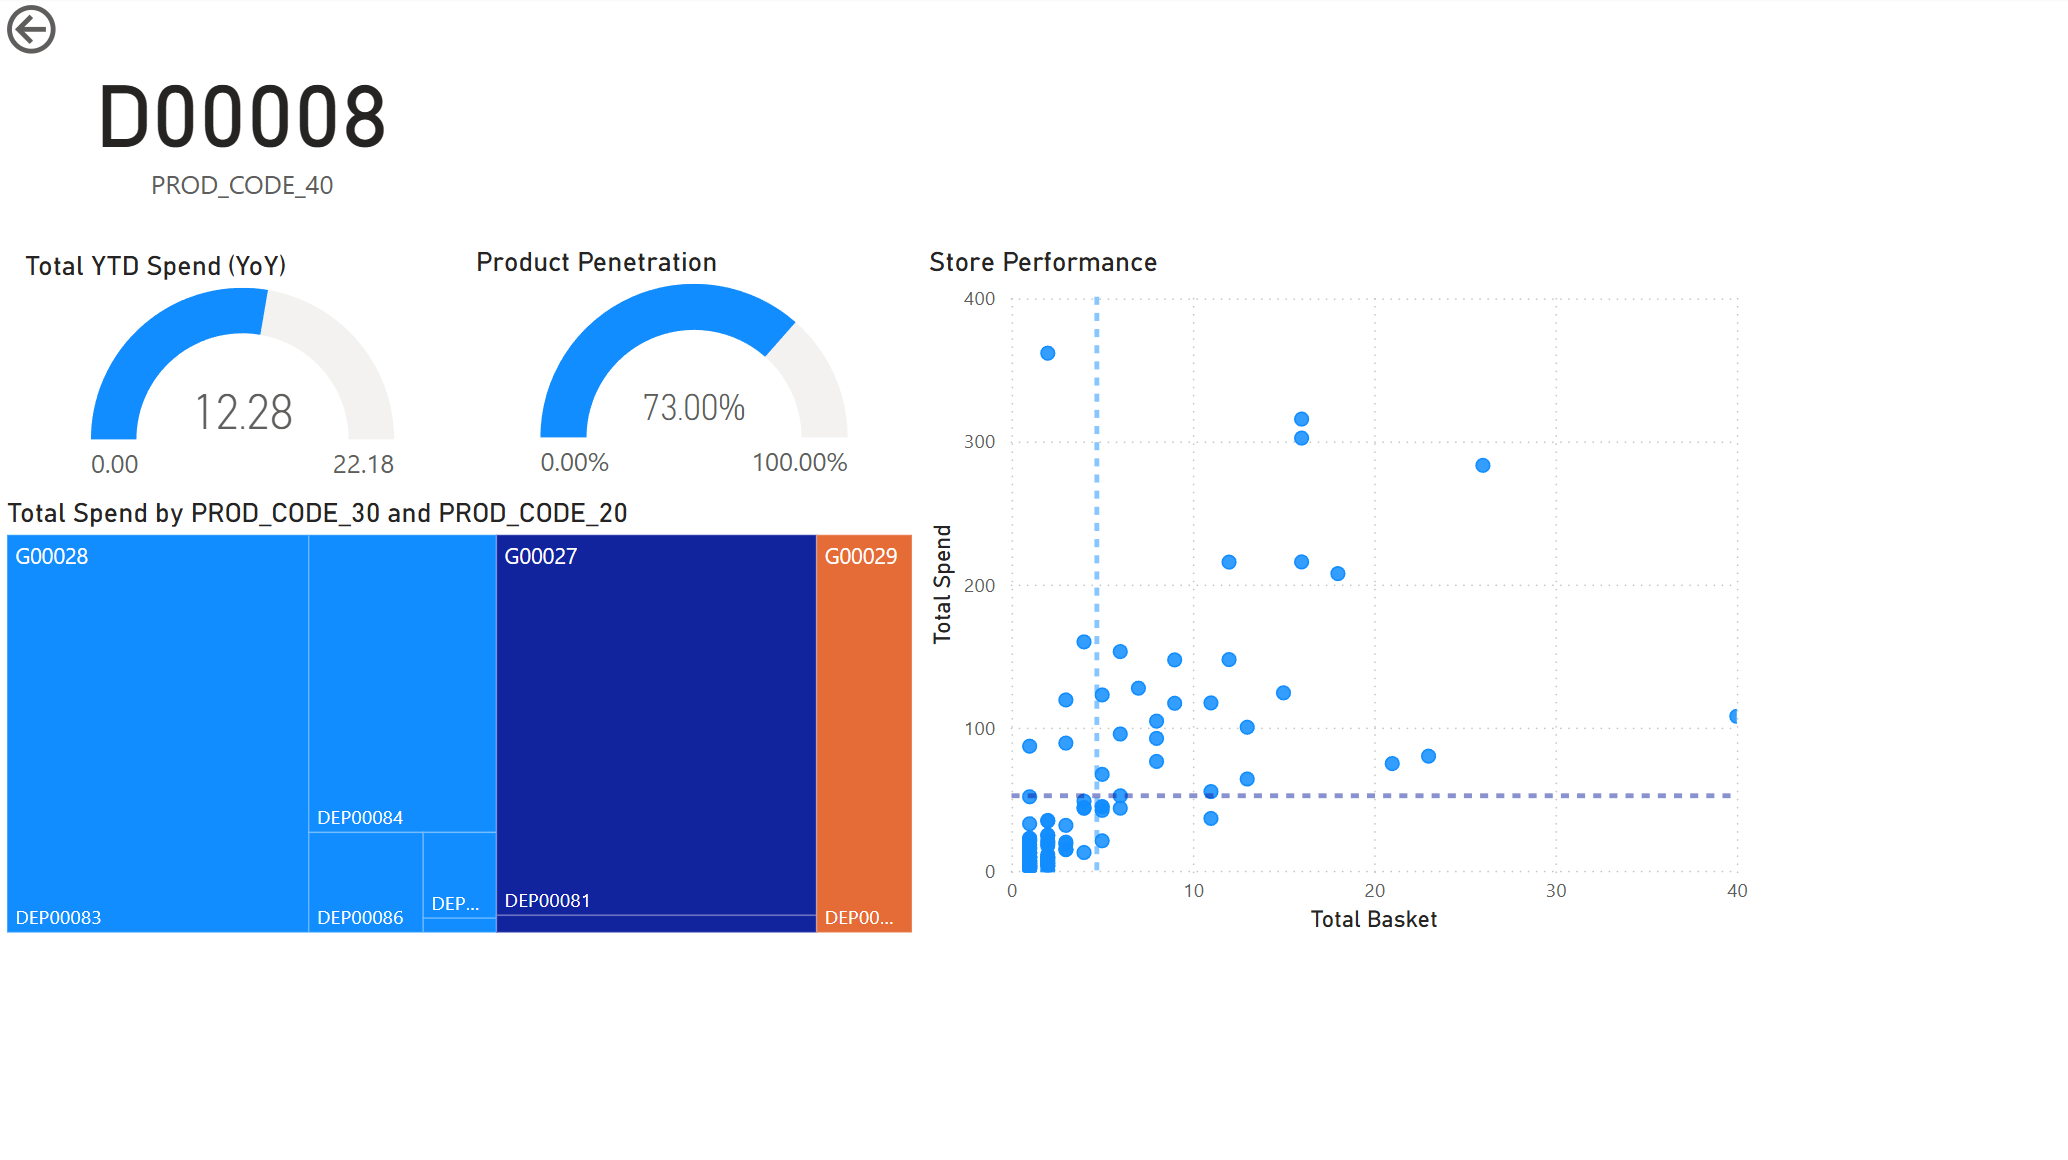

This screenshot's page, from the dashboard's own definition file:
{"tool":"powerbi","page":{"name":"Product Detail","canvas":[1280,720],"ordinal":1},"visuals":[{"type":"card","fields":{"Values":["Min(products.PROD_CODE_40)"]},"box":[10.6,0,279.7,155.1],"z":0},{"type":"actionButton","box":[0,0,100,40],"z":1000},{"type":"gauge","title":"Total YTD Spend (YoY)","fields":{"Y":["transactions.Total YTD Spend"],"MaxValue":["transactions.Prev Total YTD Spend"]},"box":[11.4,155.7,279.2,153.8],"z":2000},{"type":"gauge","fields":{"Y":["transactions.Product Penetration"]},"box":[290.4,153.5,279.7,155.1],"z":3000},{"type":"treemap","fields":{"Values":["transactions.Total Spend"],"Group":["products.PROD_CODE_30"],"Details":["products.PROD_CODE_20"]},"box":[0,308.6,570.1,275.2],"z":4000},{"type":"scatterChart","title":"Store Performance","fields":{"Y":["transactions.Total Spend"],"X":["transactions.Total Basket"],"Category":["stores.STORE_CODE"]},"box":[570.1,153.5,516.9,430.2],"z":5000}]}

Visuals, with their boxes in screenshot pixels (x1, y1, x2, y2), scaled from the page's 1280x720 canvas onto the 2068x1160 screenshot:
card - Min(products.PROD_CODE_40): bbox=[17, 0, 469, 250]
actionButton: bbox=[0, 0, 162, 64]
"Total YTD Spend (YoY)" gauge: bbox=[18, 251, 470, 499]
gauge - transactions.Product Penetration: bbox=[469, 247, 921, 497]
treemap - transactions.Total Spend x products.PROD_CODE_30: bbox=[0, 497, 921, 941]
"Store Performance" scatterChart: bbox=[921, 247, 1756, 940]
